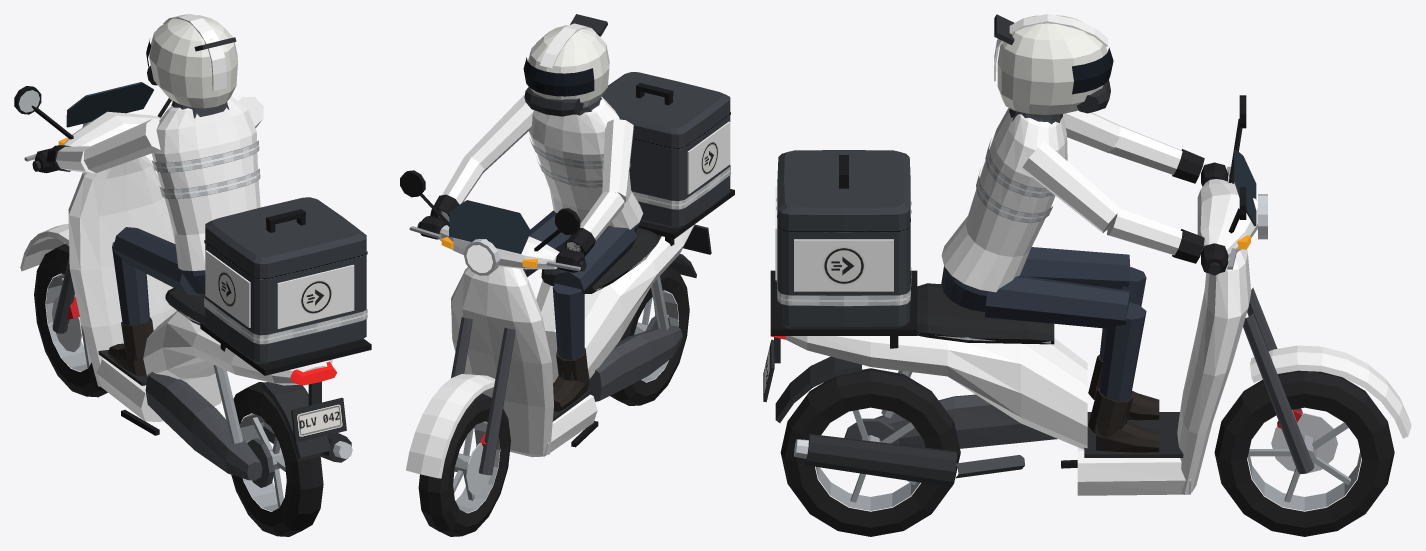
Rendered from scooter.glb.
3 views of the same model, side by side, from view 1: azimuth 30°, elevation 25°; view 2: azimuth 150°, elevation 25°; view 3: azimuth 270°, elevation 25° (orthographic). The views are drawn at different scales.
Parts seen in each view (by area): view 1: Frame, Torso, RearWheel, Head, ForkMesh, FrontWheel, TailLight; view 2: Frame, Torso, ForkMesh, FrontWheel, Head, RearWheel, Headlight; view 3: Frame, Torso, FrontWheel, RearWheel, ForkMesh, Head.
Part boxes in pixels (x1=…): Frame: x1=68, y1=156, x2=371, y2=480; Torso: x1=34, y1=96, x2=263, y2=376; RearWheel: x1=231, y1=382, x2=323, y2=536; Head: x1=146, y1=14, x2=237, y2=108; ForkMesh: x1=14, y1=82, x2=171, y2=333; FrontWheel: x1=34, y1=243, x2=107, y2=397; TailLight: x1=290, y1=361, x2=337, y2=385; Frame: x1=451, y1=72, x2=734, y2=457; Torso: x1=419, y1=95, x2=643, y2=411; ForkMesh: x1=400, y1=170, x2=586, y2=478; FrontWheel: x1=418, y1=393, x2=510, y2=536; Head: x1=523, y1=14, x2=609, y2=116; RearWheel: x1=610, y1=266, x2=689, y2=405; Headlight: x1=441, y1=237, x2=537, y2=272; Frame: x1=763, y1=150, x2=1251, y2=495; Torso: x1=941, y1=108, x2=1228, y2=452; FrontWheel: x1=1214, y1=370, x2=1394, y2=536; RearWheel: x1=780, y1=368, x2=960, y2=536; ForkMesh: x1=1197, y1=95, x2=1411, y2=474; Head: x1=994, y1=14, x2=1113, y2=114.
Bounding box in the file's own units: 0.7451 × 1.71 × 1.94.
3 materials, 2 textured.
